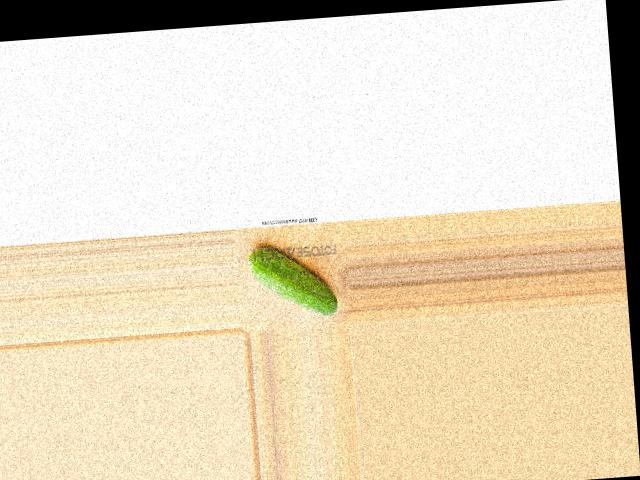cucumber: (246, 241, 338, 321)
